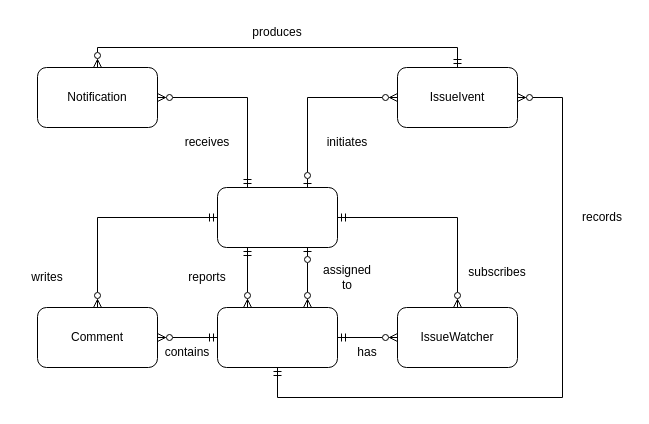
This 649x424 diagram has some shape labels left out. The shapes that lost their labels are listed below. From the top down, each one's box as (x1, y1, x2, y2) in pixels, then its label:
(216, 186, 338, 248): User
(216, 306, 338, 368): Issue
